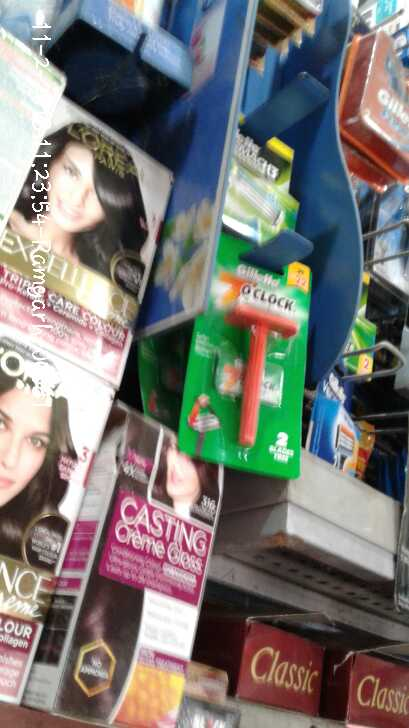gillette: (167, 231, 314, 477)
